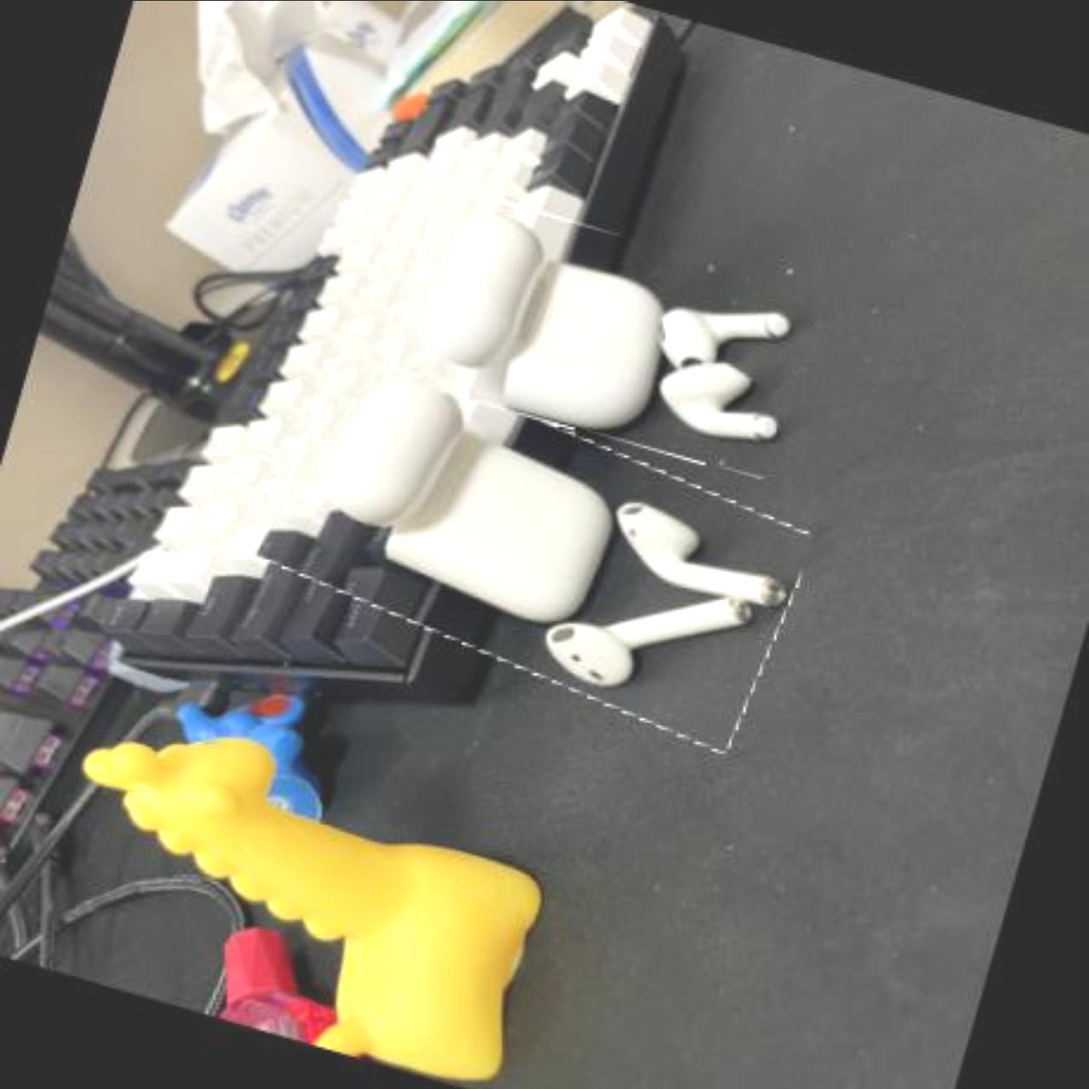AirPods: (249, 347, 821, 744), (389, 182, 819, 483)
